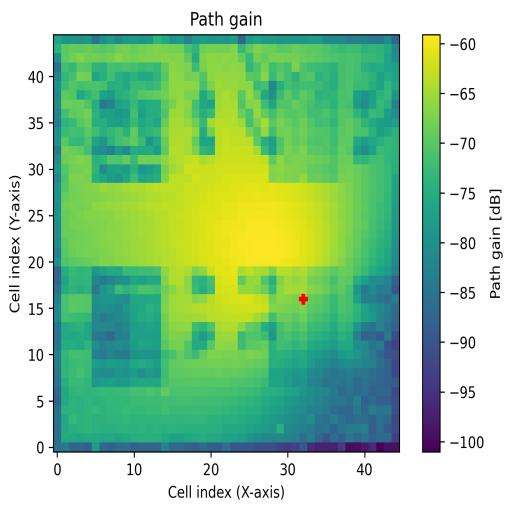Concrete: (269, 63, 337, 184)
Glass: (93, 64, 168, 185)
Metal: (269, 266, 339, 389)
Wood: (92, 267, 162, 388)
